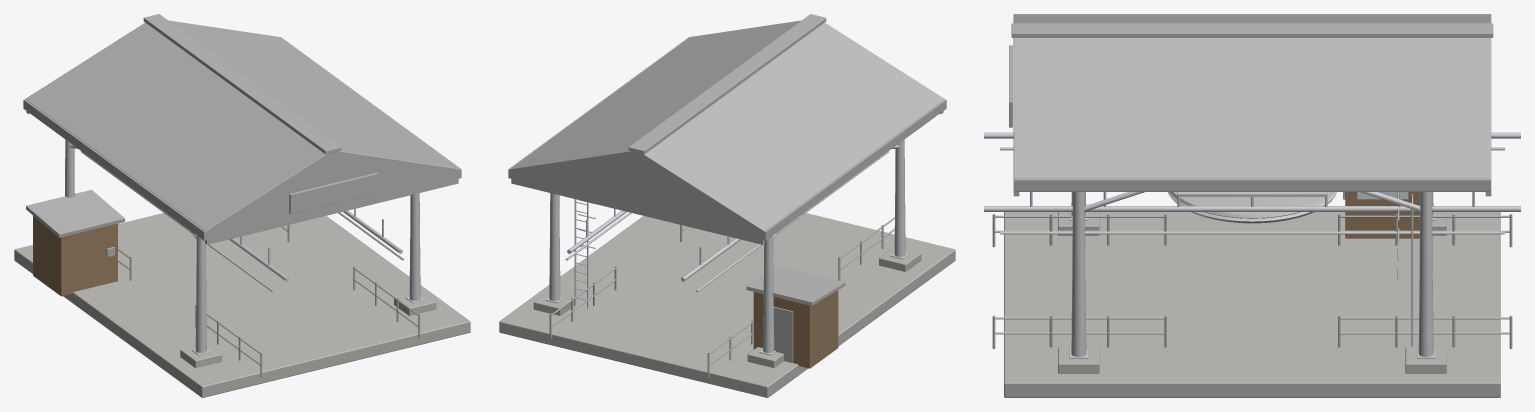
Rendered from ChairliftStation.fbx.
3 views of the same model, side by side, from view 1: azimuth 30°, elevation 25°; view 2: azimuth 150°, elevation 25°; view 3: azimuth 270°, elevation 25° (orthographic). The views are drawn at different scales.
Parts seen in each view (by area): view 1: ChairliftStation; view 2: ChairliftStation; view 3: ChairliftStation.
Part boxes in pixels (bbox=[...]): ChairliftStation: bbox=[14, 14, 470, 397]; ChairliftStation: bbox=[499, 14, 955, 397]; ChairliftStation: bbox=[984, 14, 1520, 397].
Size of the model in its own units: 11.03 by 7.93 by 13.6.
